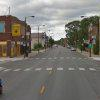Crosswalk: (7, 59, 100, 83)
